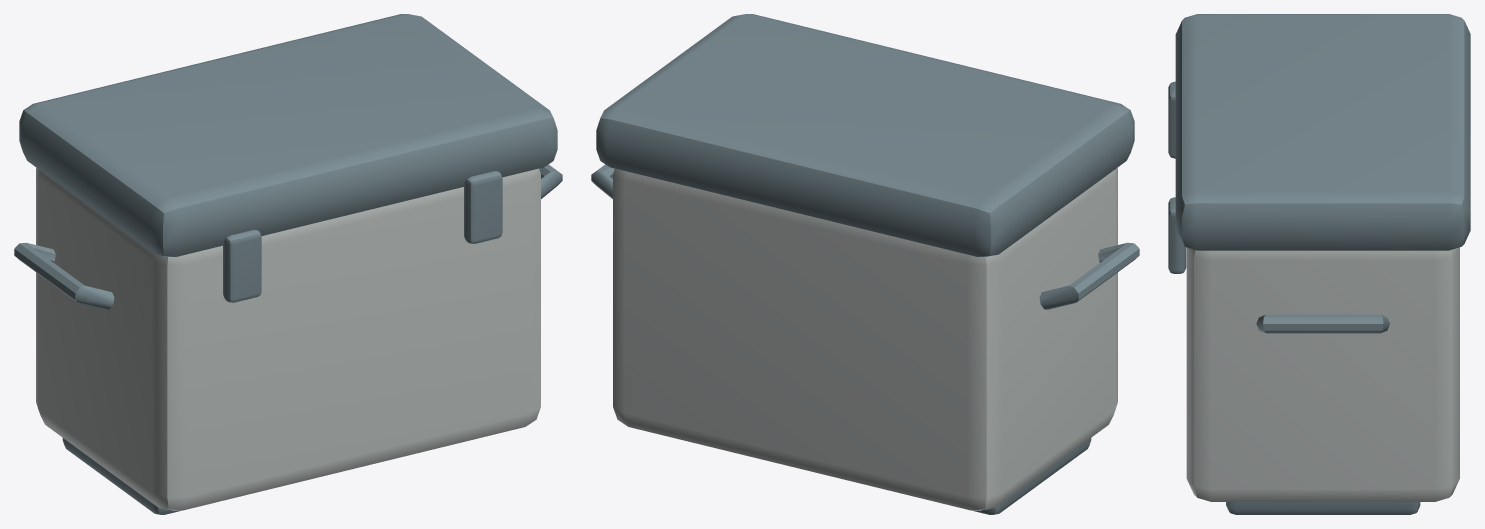
The model's file is cooler-box.glb.
3 renders of one model, left to right at view 1: azimuth 30°, elevation 25°; view 2: azimuth 150°, elevation 25°; view 3: azimuth 270°, elevation 25°, orthographic.
Parts seen in each view (by area): view 1: insulated_body, lid, latch, latch.001, side_handle, base_foot; view 2: insulated_body, lid, side_handle, base_foot; view 3: lid, insulated_body, side_handle.001, base_foot.001, latch.001, latch.
Part boxes in pixels (box(x1,y1,x2,y2)): insulated_body: box(36, 168, 540, 510); lid: box(19, 14, 557, 256); latch: box(223, 229, 261, 302); latch.001: box(464, 171, 502, 243); side_handle: box(14, 242, 114, 309); base_foot: box(62, 438, 180, 514); insulated_body: box(613, 168, 1117, 510); lid: box(596, 14, 1134, 256); side_handle: box(1039, 242, 1139, 309); base_foot: box(973, 438, 1091, 514); lid: box(1175, 14, 1470, 250); insulated_body: box(1186, 247, 1459, 501); side_handle.001: box(1256, 314, 1389, 333); base_foot.001: box(1226, 502, 1420, 514); latch.001: box(1168, 197, 1186, 273); latch: box(1168, 81, 1175, 158).
Bounding box in the file's own units: 0.7695 × 0.505 × 0.4205.
